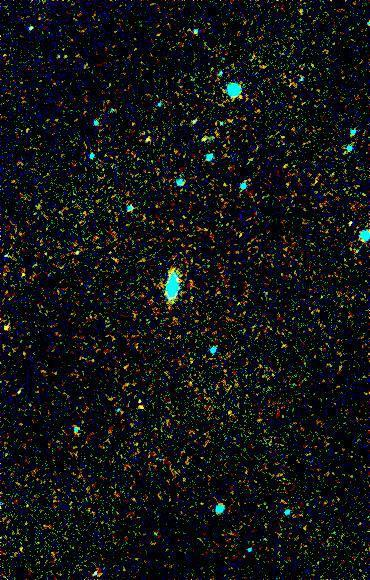star: (0, 314, 19, 344)
